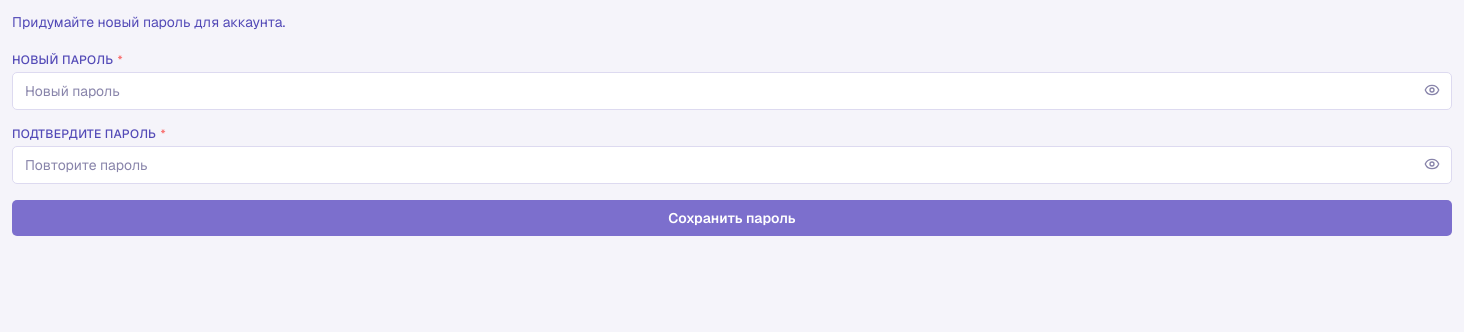
Test: ResetPasswordForm › shows server error on 400 response
Type "Password1!" into the password field labelled "Новый пароль*" at (732, 91), box [12,72,1452,110]
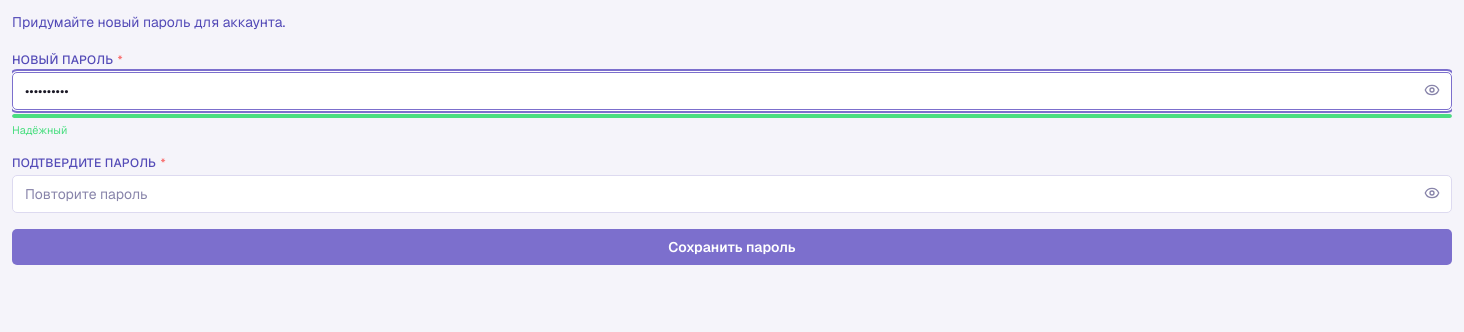
Type "Password1!" into the password field labelled "Подтвердите пароль*" at (732, 194), box [12,174,1452,212]
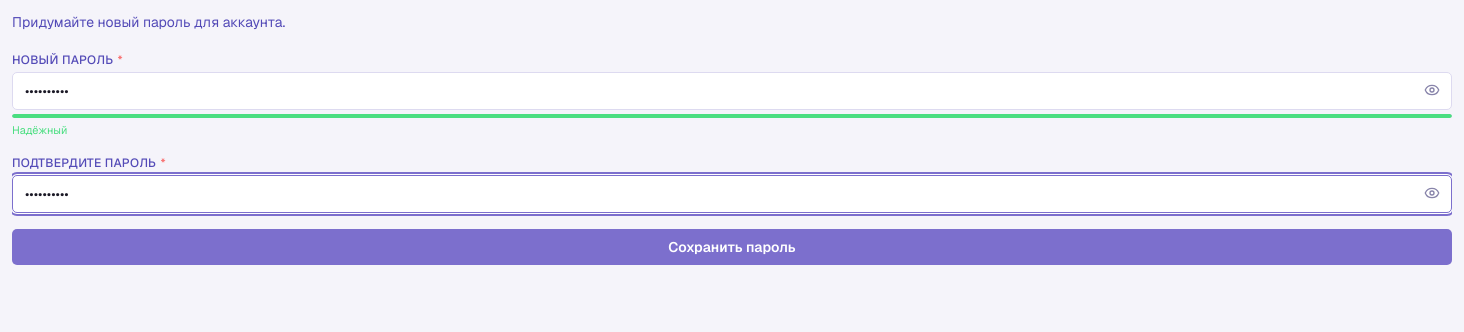
Submit the form
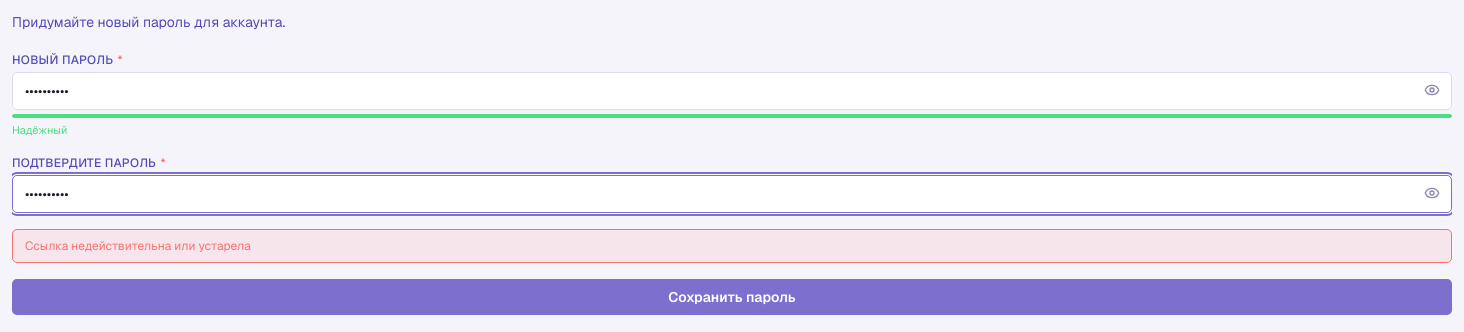
expect the text "Ссылка недействительна или устарела" is shown: met, box [12,228,1452,262]
